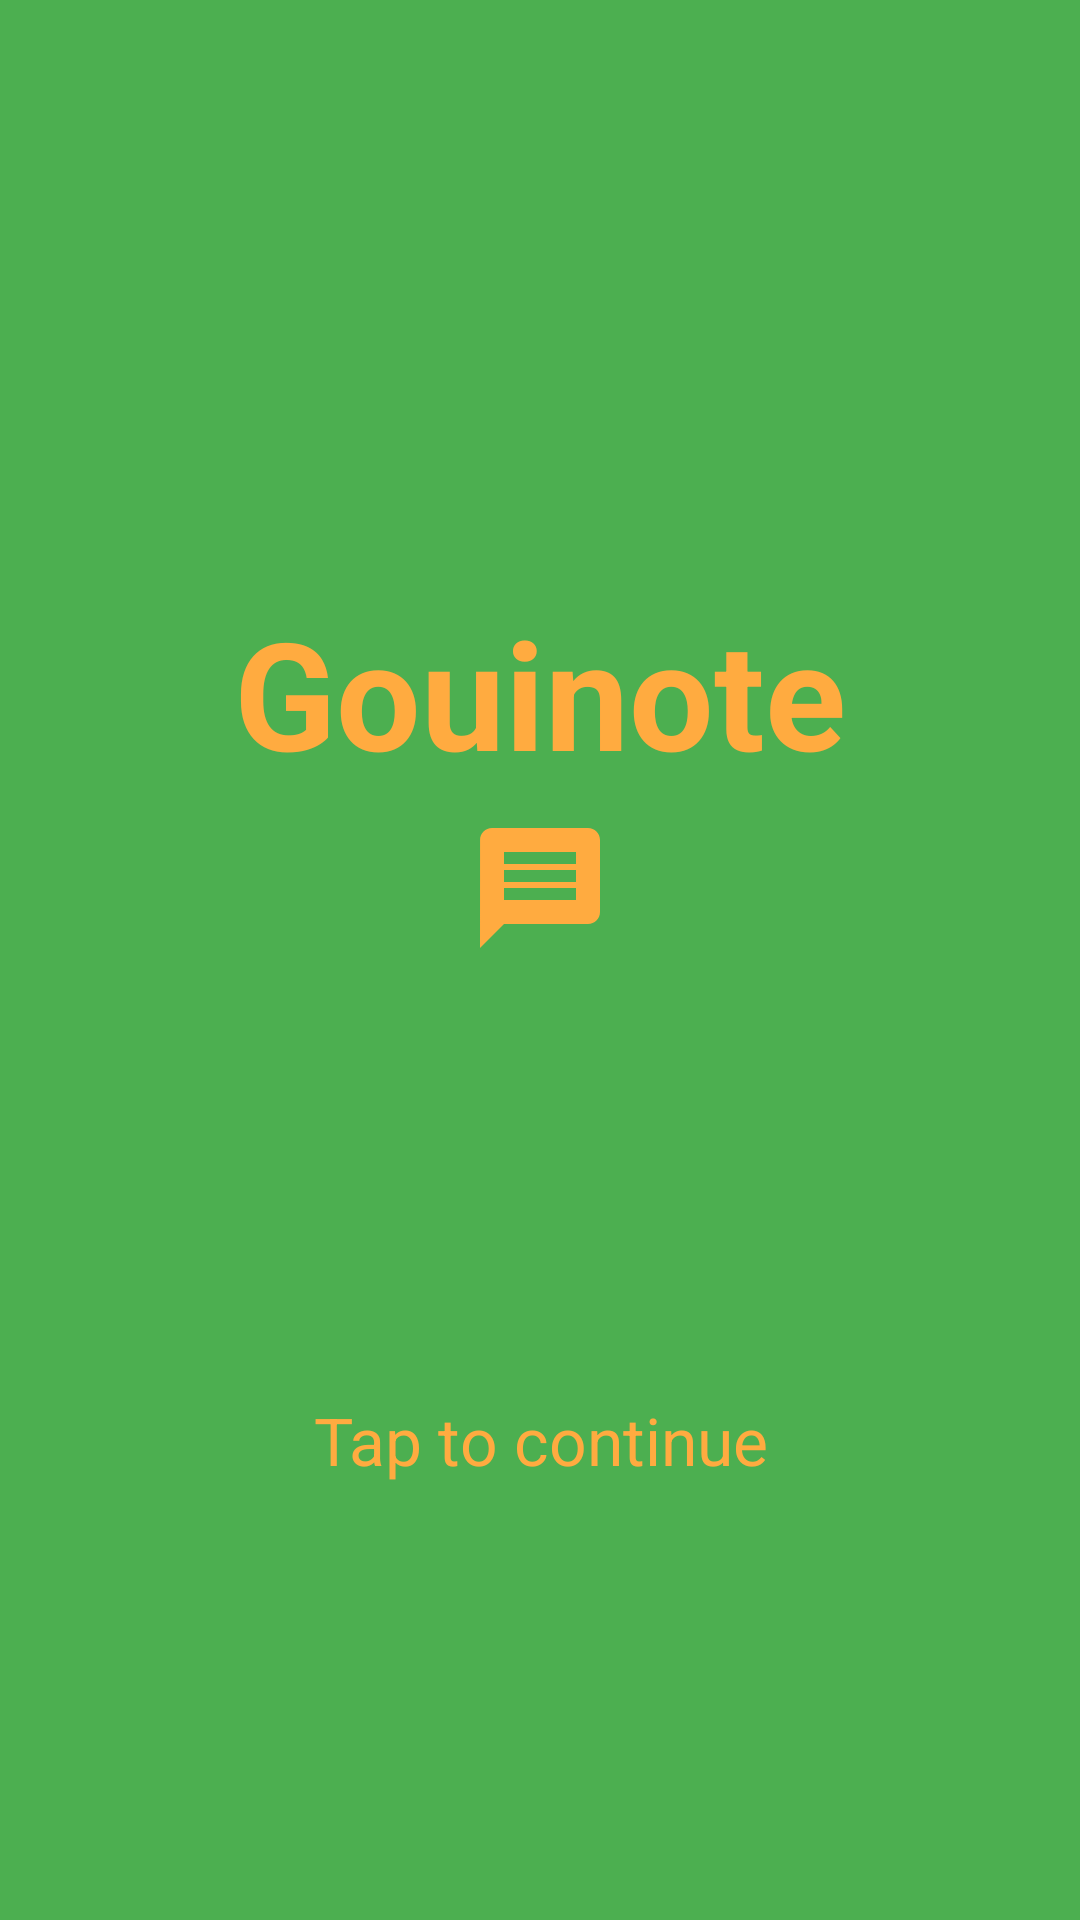

Named icons in this screenshot (1080*1920) and their centers, (x,y):
message: (540,888)
